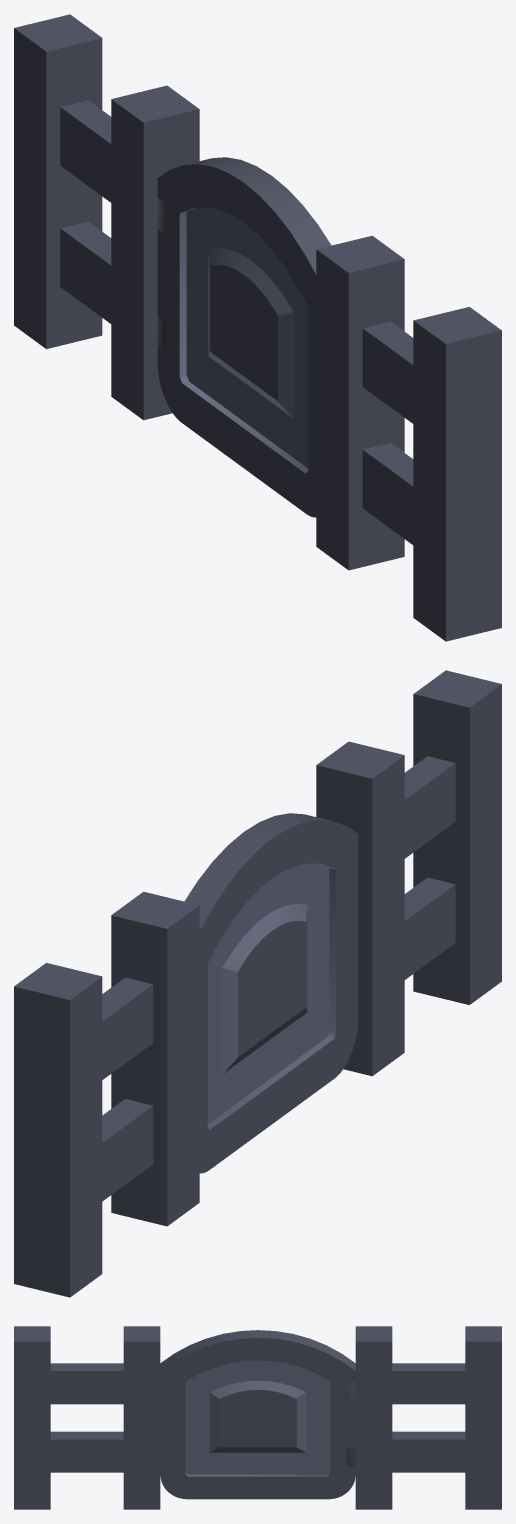
The model's file is fence-gate.glb.
3 views of the same model, one above another, from view 1: azimuth 30°, elevation 25°; view 2: azimuth 150°, elevation 25°; view 3: azimuth 270°, elevation 25° (orthographic). The views are drawn at different scales.
Parts seen in each view (by area): view 1: fence-gate, gate; view 2: fence-gate, gate; view 3: fence-gate, gate.
Boxes of the visible parts, bbox=[...] form: fence-gate: bbox=[14, 14, 501, 641]; gate: bbox=[157, 157, 331, 517]; fence-gate: bbox=[14, 670, 501, 1297]; gate: bbox=[184, 813, 358, 1173]; fence-gate: bbox=[14, 1326, 501, 1509]; gate: bbox=[160, 1330, 355, 1499].
Size of the model in its own units: 0.075 by 0.38 by 1.
1 material, 1 textured.
